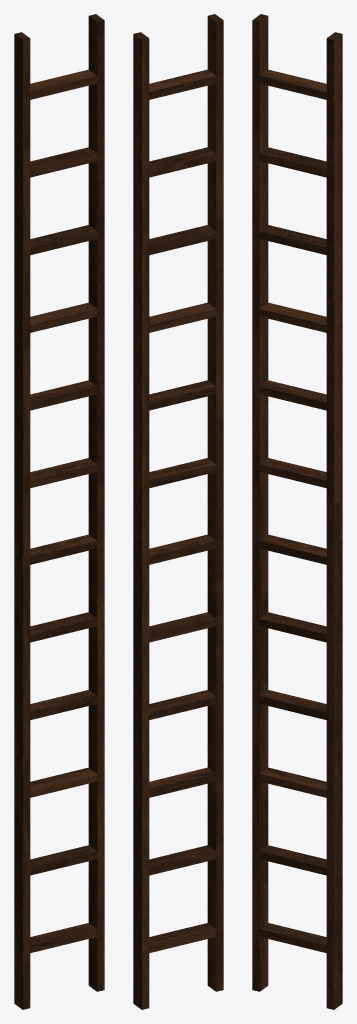
File: ladder 1.fbx
The picture shows the model from 3 angles, left to right: view 1: azimuth 30°, elevation 25°; view 2: azimuth 210°, elevation 25°; view 3: azimuth 330°, elevation 25°; orthographic projection.
Parts seen in each view (by area): view 1: pCube12; view 2: pCube12; view 3: pCube12.
Part boxes in pixels (x1,y1,x2,y2): pCube12: (14,14,104,1009); pCube12: (133,14,223,1009); pCube12: (252,14,342,1009).
Size of the model in its own units: 0.55 by 6.24 by 0.1.
Materials: 1 (1 with a texture image).
